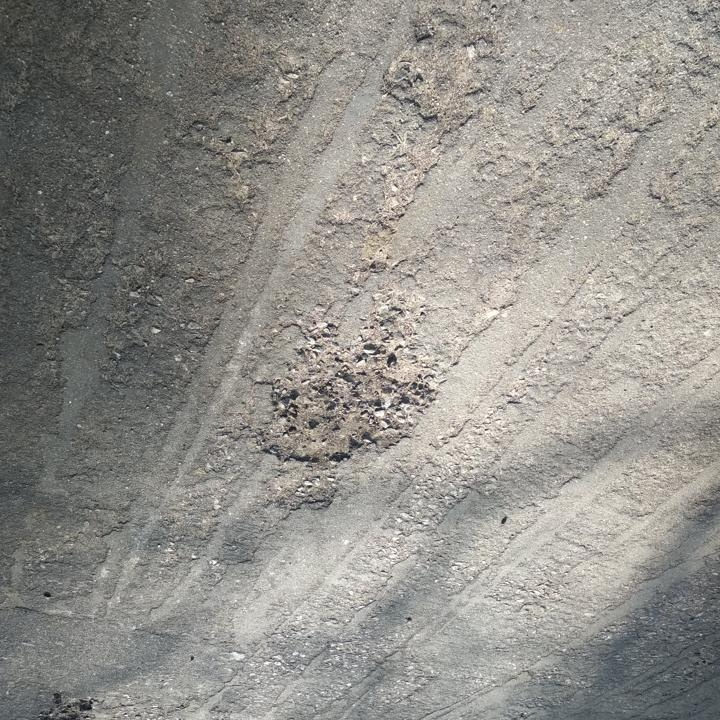pothole: (250, 317, 451, 470), (275, 471, 340, 514)
